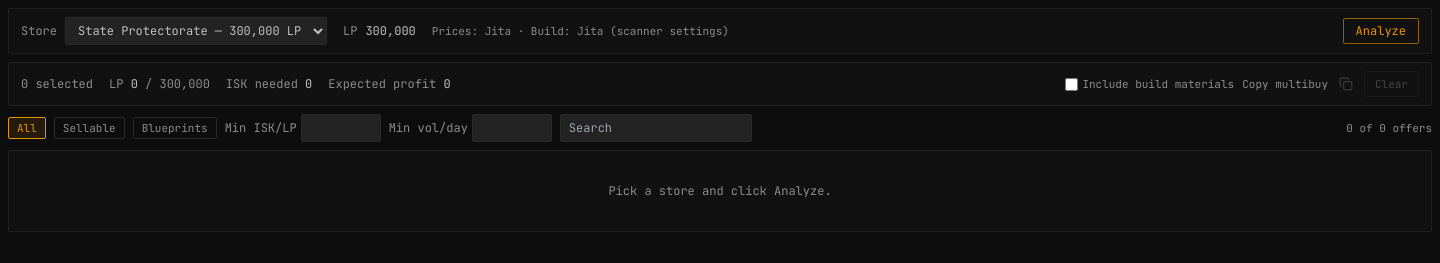
Test: LPStoreTab › shows ? for an offer whose required item cannot be priced
Click the button "Analyze" at (1381, 31), box [1343,18,1419,44]
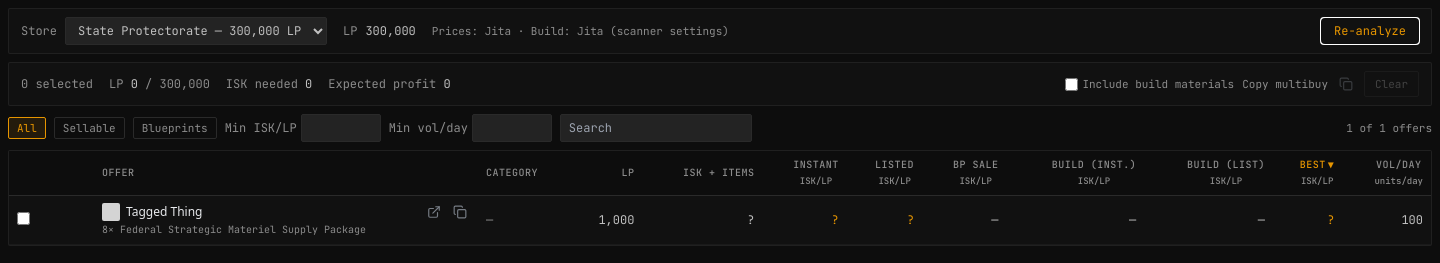
Now the 1st text "?" is shown, box [642,196,762,244]
